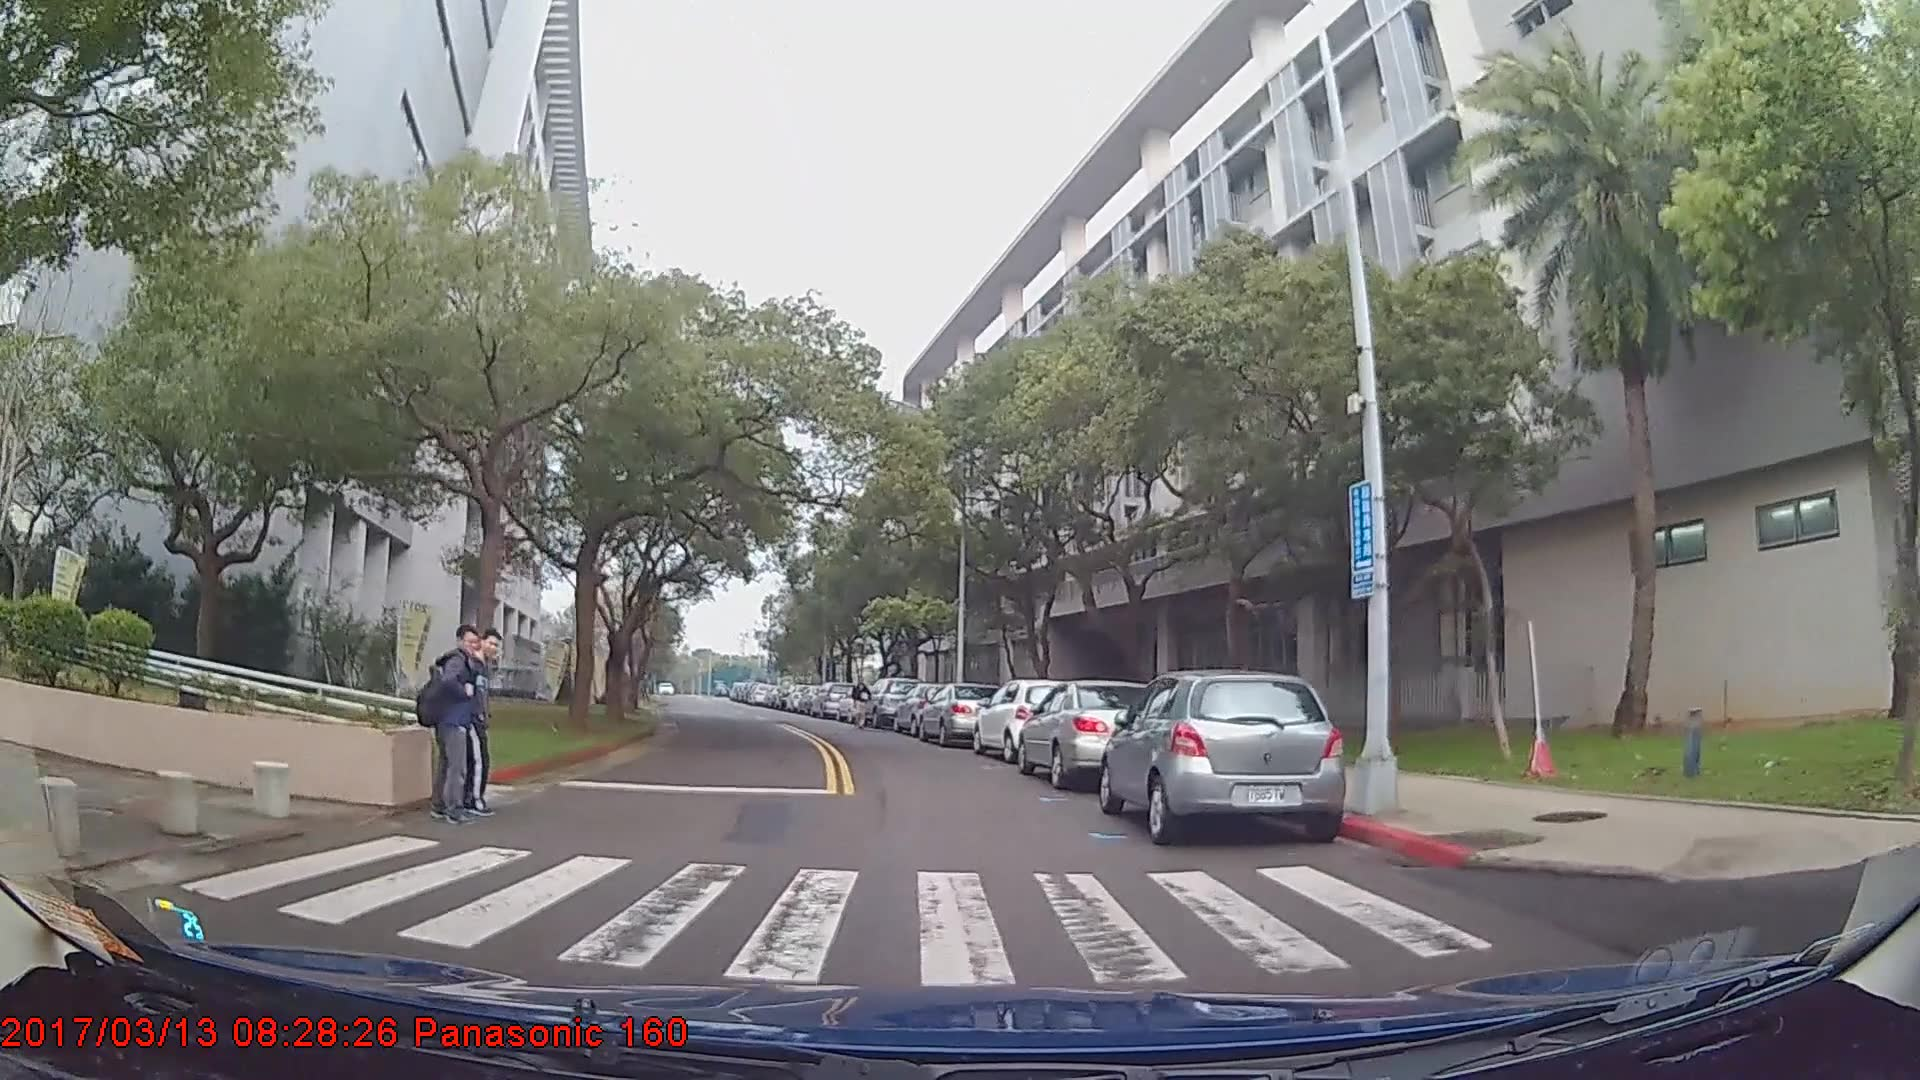pedestrian: (410, 632, 501, 834), (409, 627, 491, 832), (853, 675, 875, 731)
vehicle: (1100, 666, 1348, 845), (1017, 676, 1172, 788), (972, 676, 1078, 762), (918, 679, 1007, 746), (892, 680, 962, 737), (859, 672, 925, 725), (807, 679, 858, 717)
